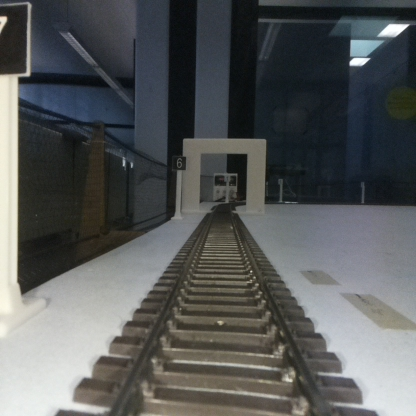black-info-6: (172, 154, 186, 218)
